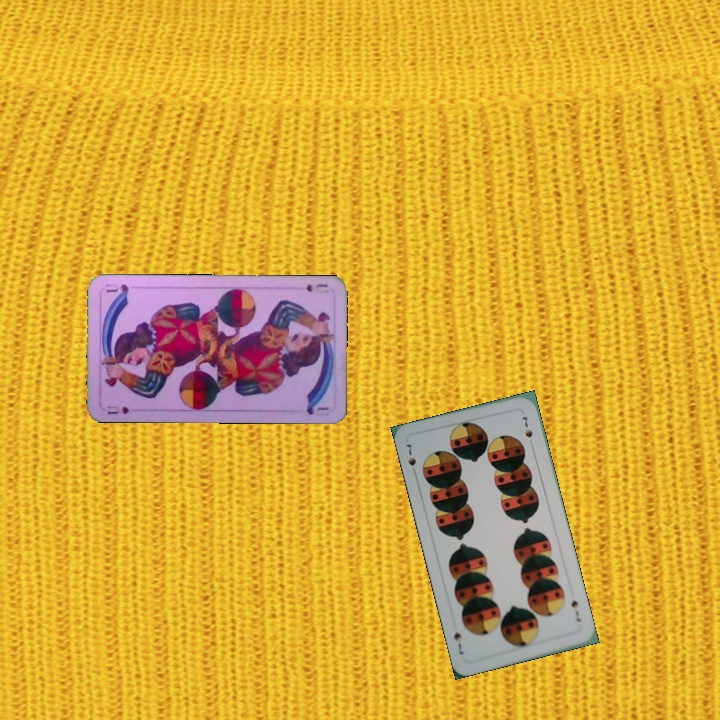S7: (402, 440, 419, 469), (567, 596, 583, 624)
SU: (103, 402, 142, 417), (302, 280, 330, 294)
